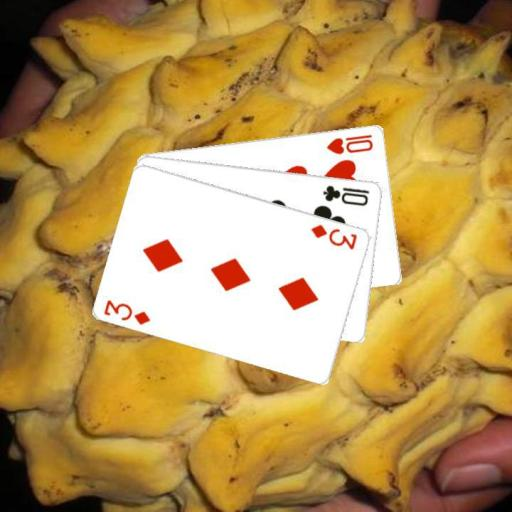10C: (320, 181, 371, 207)
10H: (324, 131, 375, 156)
3D: (308, 221, 359, 251), (101, 297, 152, 327)
